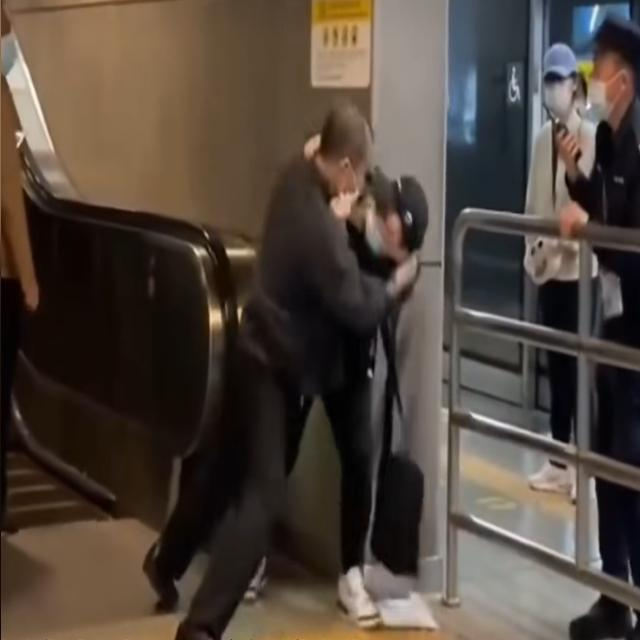fight: (278, 99, 431, 614)
nofight: (561, 0, 640, 640), (530, 37, 601, 501)
